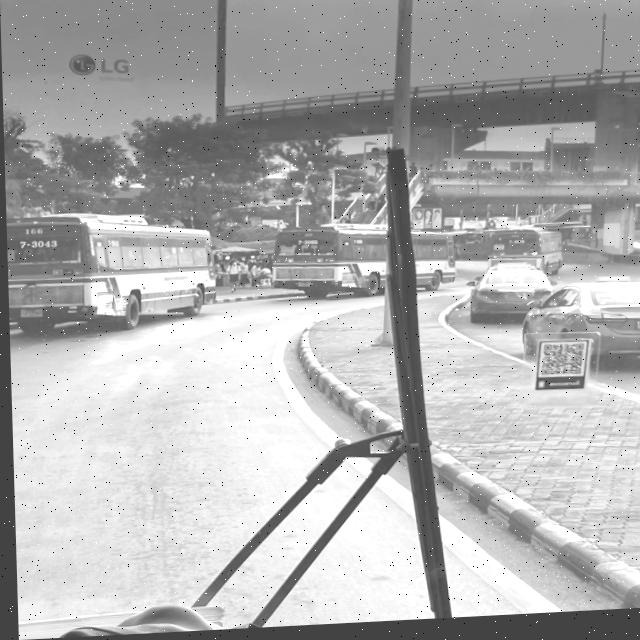BMTA-bus: (5, 204, 219, 339), (261, 217, 458, 307), (481, 230, 565, 284)
